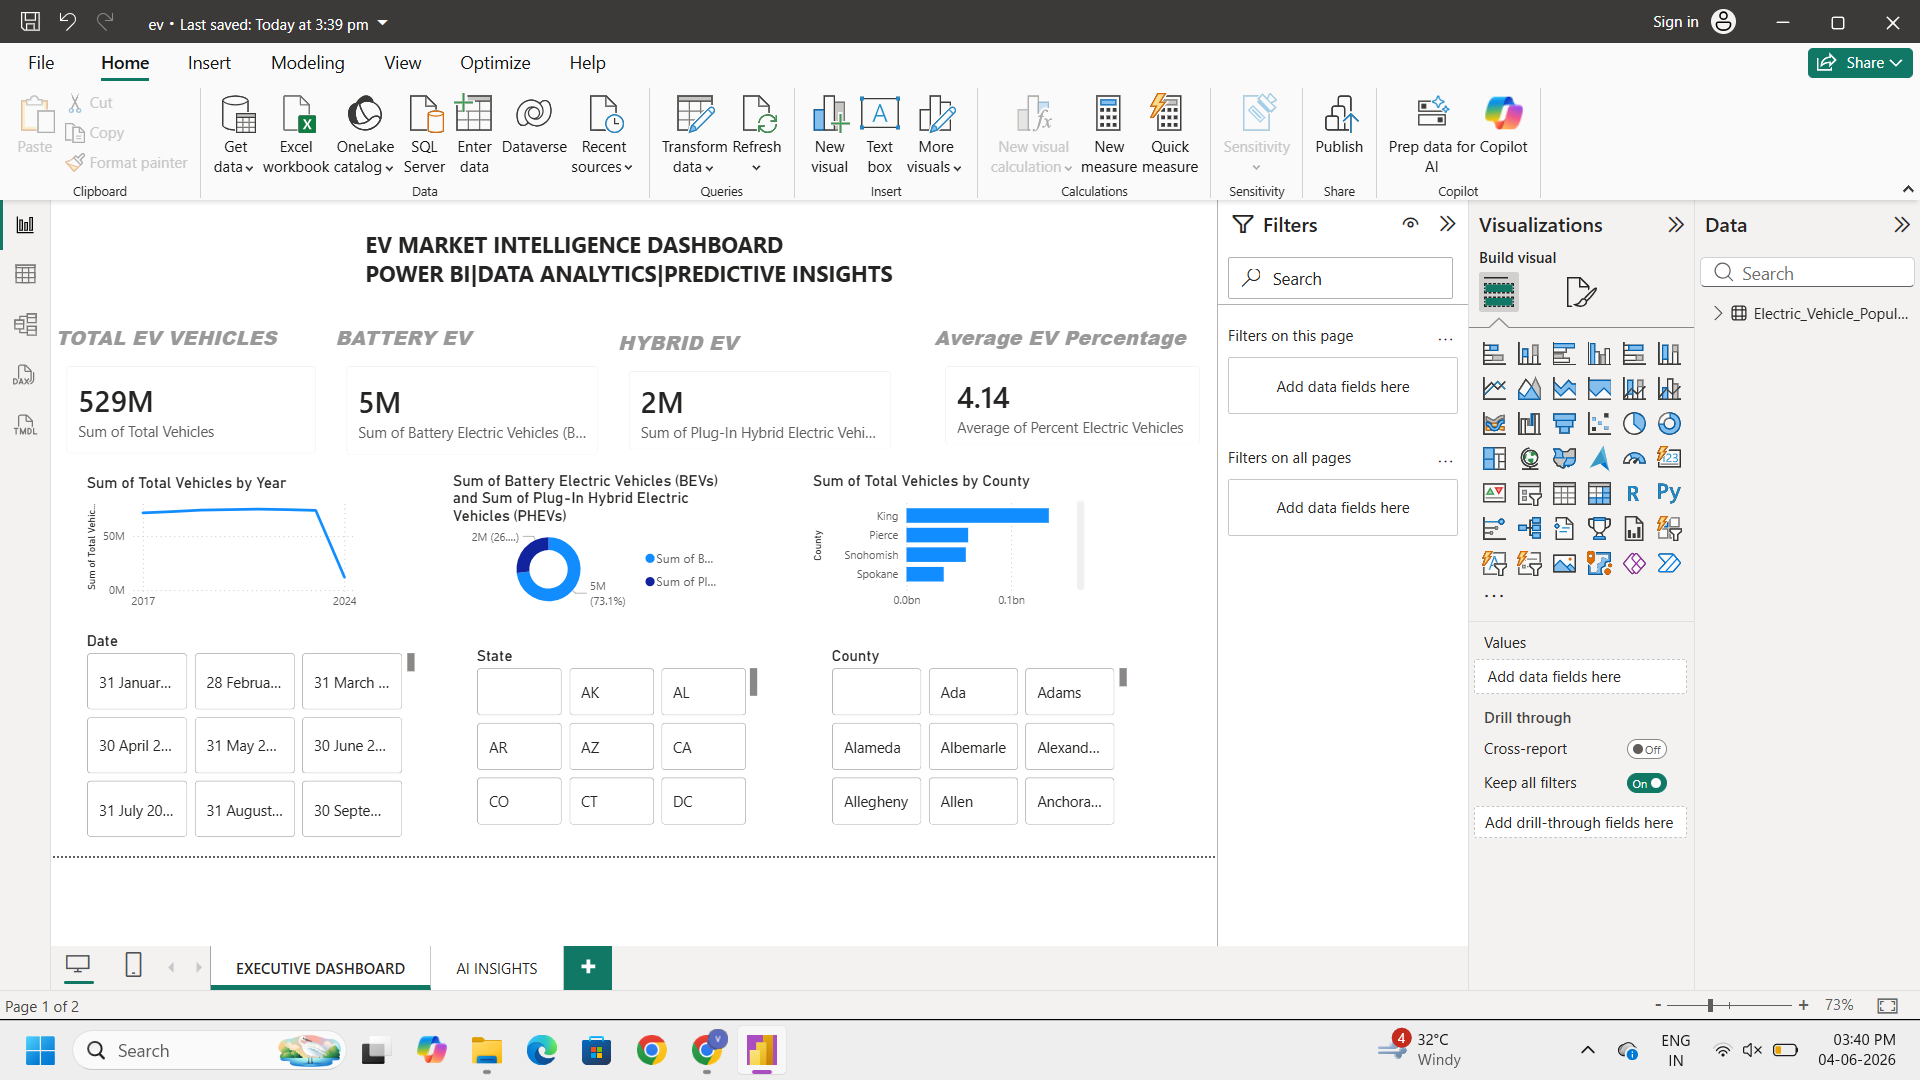

Layout of this report page (visuals, bound fields, positions):
{"tool":"powerbi","page":{"name":"EXECUTIVE DASHBOARD","canvas":[1280,720],"ordinal":0},"visuals":[{"type":"cardVisual","title":"TOTAL EV VEHICLES","fields":{"Data":["Sum(Electric_Vehicle_Population_Size_History_By_County_.Total Vehicles)"]},"box":[0,136,308,160],"z":0},{"type":"cardVisual","title":"BATTERY EV","fields":{"Data":["Sum(Electric_Vehicle_Population_Size_History_By_County_.Battery Electric Vehicles (BEVs))"]},"box":[308,136,310,162],"z":1000},{"type":"cardVisual","title":"Average EV Percentage","fields":{"Data":["Avg(Electric_Vehicle_Population_Size_History_By_County_.Percent Electric Vehicles)"]},"box":[964,136,314,150],"z":2000},{"type":"cardVisual","title":"HYBRID EV","fields":{"Data":["Sum(Electric_Vehicle_Population_Size_History_By_County_.Plug-In Hybrid Electric Vehicles (PHEVs))"]},"box":[618,142,322,150],"z":3000},{"type":"lineChart","fields":{"Y":["Sum(Electric_Vehicle_Population_Size_History_By_County_.Total Vehicles)"],"Category":["Electric_Vehicle_Population_Size_History_By_County_.Date.Variation.Date Hierarchy.Year"]},"box":[34,300,306,158],"z":4000},{"type":"clusteredBarChart","fields":{"Category":["Electric_Vehicle_Population_Size_History_By_County_.County"],"Y":["Sum(Electric_Vehicle_Population_Size_History_By_County_.Total Vehicles)"]},"box":[832,298,308,160],"z":5000},{"type":"donutChart","fields":{"Y":["Sum(Electric_Vehicle_Population_Size_History_By_County_.Battery Electric Vehicles (BEVs))","Sum(Electric_Vehicle_Population_Size_History_By_County_.Plug-In Hybrid Electric Vehicles (PHEVs))"]},"box":[436,298,310,158],"z":6000},{"type":"advancedSlicerVisual","fields":{"Values":["Electric_Vehicle_Population_Size_History_By_County_.Date"]},"box":[34,474,370,234],"z":7000},{"type":"advancedSlicerVisual","fields":{"Values":["Electric_Vehicle_Population_Size_History_By_County_.County"]},"box":[852,490,334,202],"z":8000},{"type":"textbox","box":[340,28,624,108],"z":9000},{"type":"advancedSlicerVisual","fields":{"Values":["Electric_Vehicle_Population_Size_History_By_County_.State"]},"box":[462,490,318,202],"z":10000}]}

Visuals, with their boxes on the page's 1280x720 design canvas (x1, y1, x2, y2). These are canvas units, not pixel positions in the 1920x1080 screenshot, which may show the page scaled, cropped or inside an application window:
"TOTAL EV VEHICLES" cardVisual: <box>0,136,308,296</box>
"BATTERY EV" cardVisual: <box>308,136,618,298</box>
"Average EV Percentage" cardVisual: <box>964,136,1278,286</box>
"HYBRID EV" cardVisual: <box>618,142,940,292</box>
lineChart - Sum(Electric_Vehicle_Population_Size_History_By_County_.Total Vehicles) x Electric_Vehicle_Population_Size_History_By_County_.Date.Variation.Date Hierarchy.Year: <box>34,300,340,458</box>
clusteredBarChart - Electric_Vehicle_Population_Size_History_By_County_.County x Sum(Electric_Vehicle_Population_Size_History_By_County_.Total Vehicles): <box>832,298,1140,458</box>
donutChart - Sum(Electric_Vehicle_Population_Size_History_By_County_.Battery Electric Vehicles (BEVs)) x Sum(Electric_Vehicle_Population_Size_History_By_County_.Plug-In Hybrid Electric Vehicles (PHEVs)): <box>436,298,746,456</box>
advancedSlicerVisual - Electric_Vehicle_Population_Size_History_By_County_.Date: <box>34,474,404,708</box>
advancedSlicerVisual - Electric_Vehicle_Population_Size_History_By_County_.County: <box>852,490,1186,692</box>
textbox: <box>340,28,964,136</box>
advancedSlicerVisual - Electric_Vehicle_Population_Size_History_By_County_.State: <box>462,490,780,692</box>
